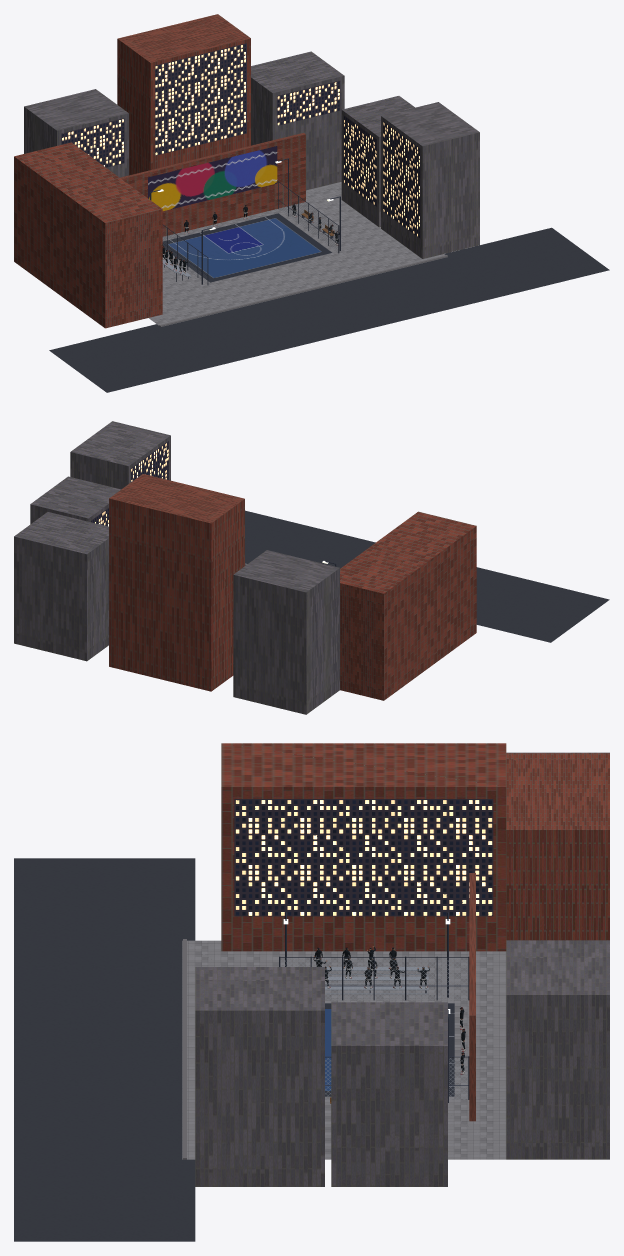
The model's file is court.v1.glb.
3 renders of one model, top to bottom at view 1: azimuth 30°, elevation 25°; view 2: azimuth 150°, elevation 25°; view 3: azimuth 270°, elevation 25°, orthographic. The views are drawn at different scales.
Visible parts, largest first — view 1: street, left_building, paving, side_building_1, building_1, facade_1, building_2, court, back_wall, mural, building_0, side_facade_1 (+7 smaller); view 2: building_1, left_building, building_0, building_2, street, side_building_1, side_building_0, side_facade_1; view 3: street, left_facade, left_building, side_building_1, building_2, side_building_0, paving, building_1, fence_-1, back_wall, crowd, court (+1 smaller).
Part boxes in pixels (x1,y1,x2,y2): street: (49,227,609,392); left_building: (14,142,162,328); paving: (149,182,447,326); side_building_1: (381,102,479,258); building_1: (117,14,250,175); facade_1: (155,43,246,155); building_2: (251,51,344,190); court: (162,213,331,282); back_wall: (120,133,305,236); mural: (148,146,277,211); building_0: (24,89,128,177); side_facade_1: (383,121,420,238); building_1: (109,474,244,691); left_building: (340,511,476,700); building_0: (233,550,339,714); building_2: (14,512,108,661); street: (245,510,609,642); side_building_1: (70,421,170,489); side_building_0: (30,476,120,524); side_facade_1: (131,441,168,481); street: (14,858,195,1241); left_facade: (234,799,493,916); left_building: (221,743,506,951); side_building_1: (195,967,324,1186); building_2: (506,940,609,1159); side_building_0: (331,1002,447,1186); paving: (182,940,506,1159); building_1: (506,753,609,940); fence_-1: (280,958,467,1000); back_wall: (469,873,475,1121); crowd: (313,946,465,1074); court: (325,1003,454,1096).
Bounding box in the file's own units: 70 × 22.01 × 46.
16 materials, 11 textured.
